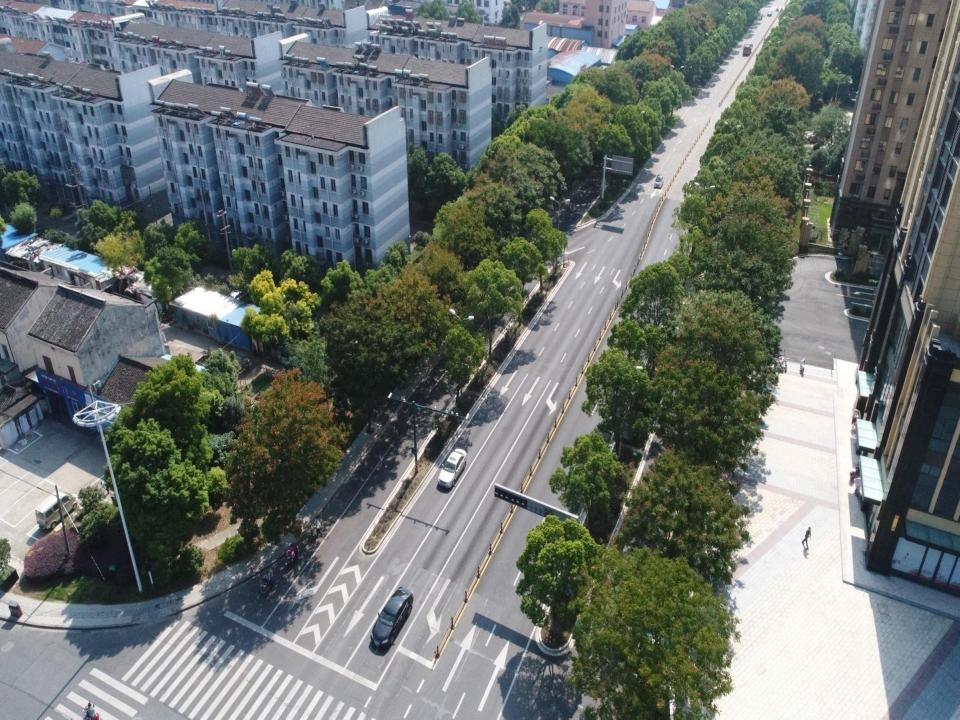car: (370, 586, 413, 658), (437, 447, 466, 491), (654, 173, 664, 190), (767, 9, 773, 16)
truck: (742, 43, 754, 55)
